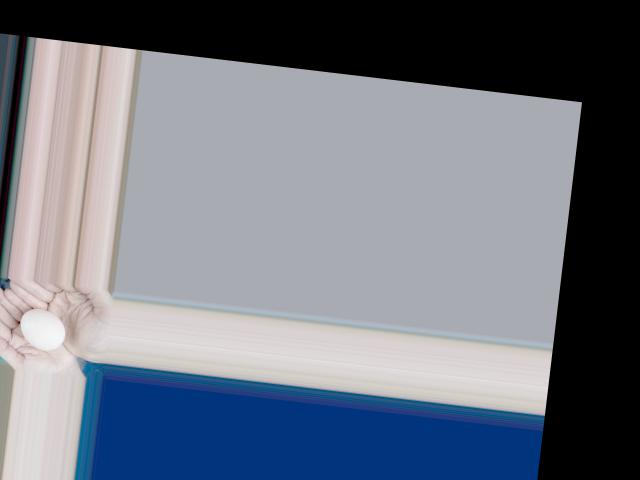egg: (17, 307, 66, 351)
